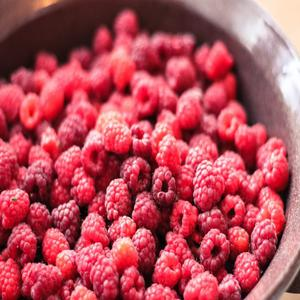raspb: (1, 54, 229, 300)
